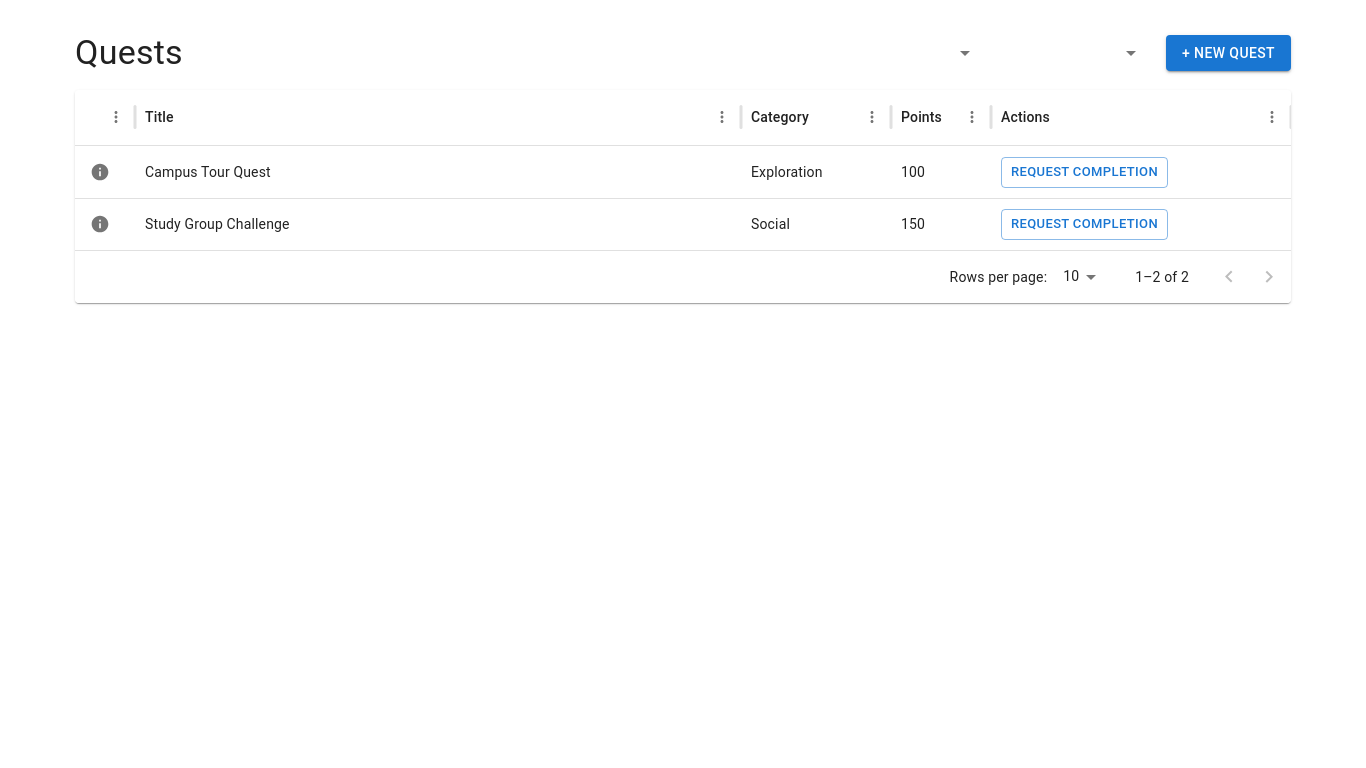
Test case: Completion Workflow - Student › should create pending completion when student requests
Expected: the text "Campus Tour Quest" is shown, [145,164,271,180]
Click the button "Request Completion" in the row of "Campus Tour Quest": (1084, 172) [1001,157,1168,188]
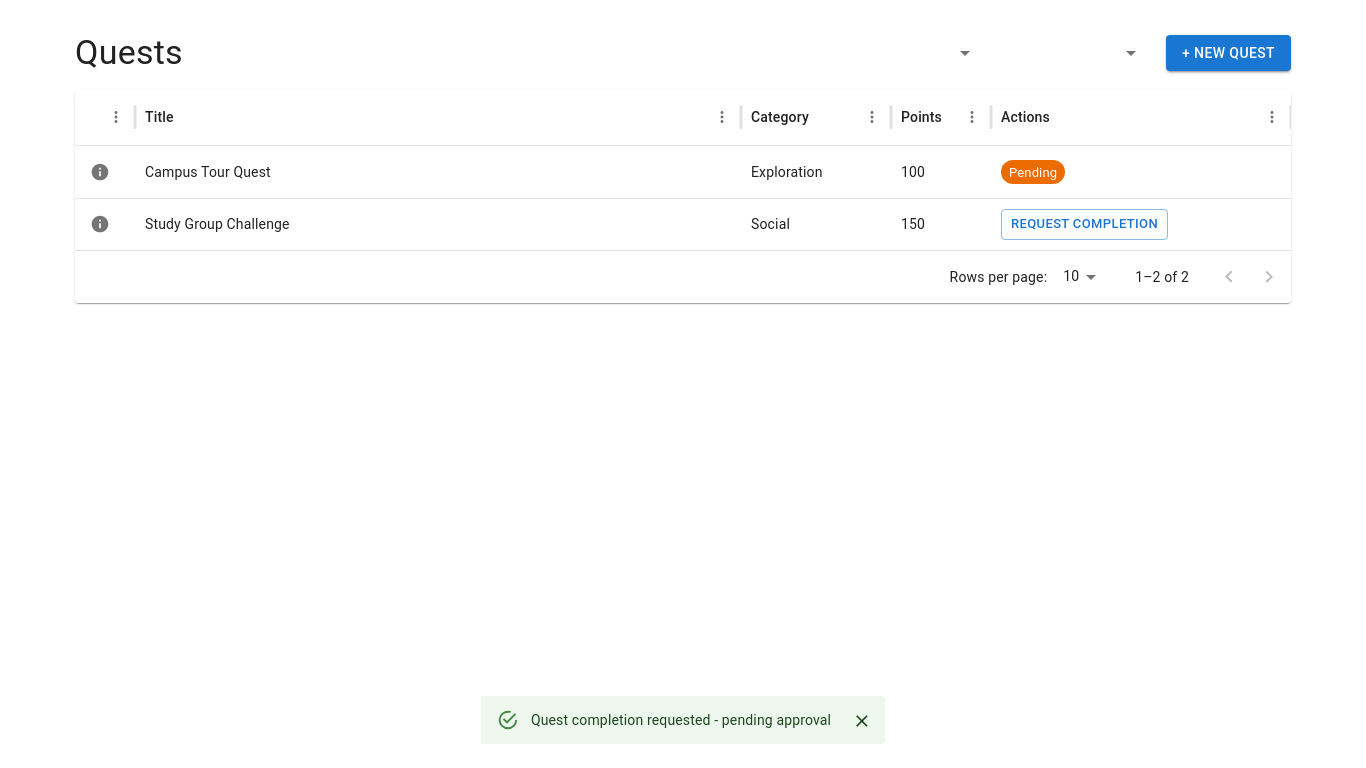
Expected: the text "Pending" is shown, [1009,165,1057,180]
